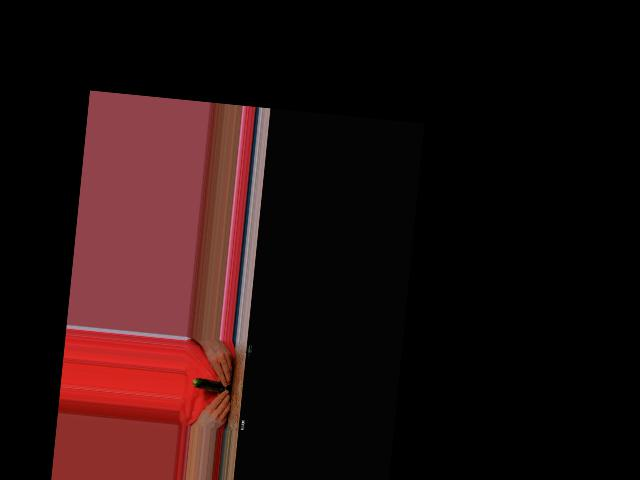cucumber: (192, 377, 232, 393)
